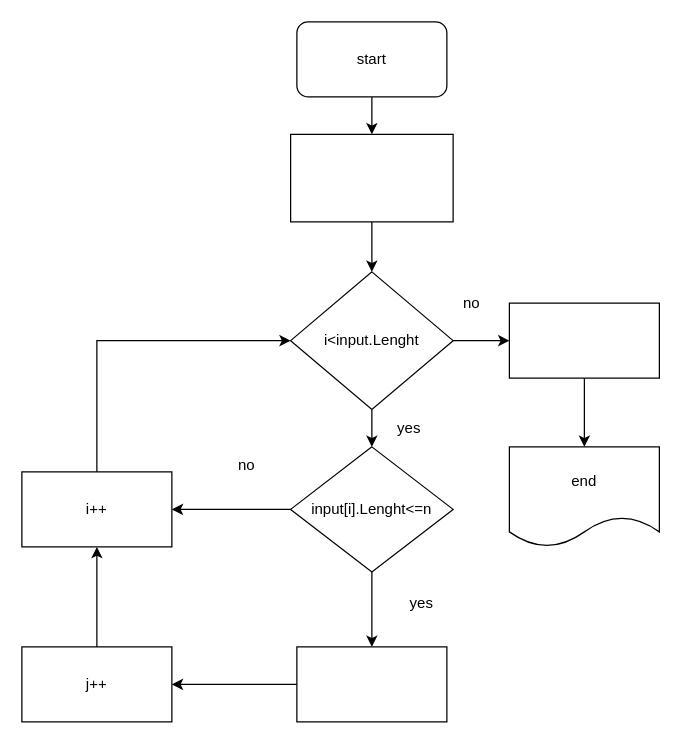
This 681x744 diagram has some shape labels left out. The box of each missing label's shape, as (x1, y1, x2, y2) in pixels:
output: (508, 302, 659, 378)
output[i]=input[i]: (296, 646, 447, 722)
string [] input string [] output int i=0 ing j=0 int a =3: (289, 133, 453, 222)
